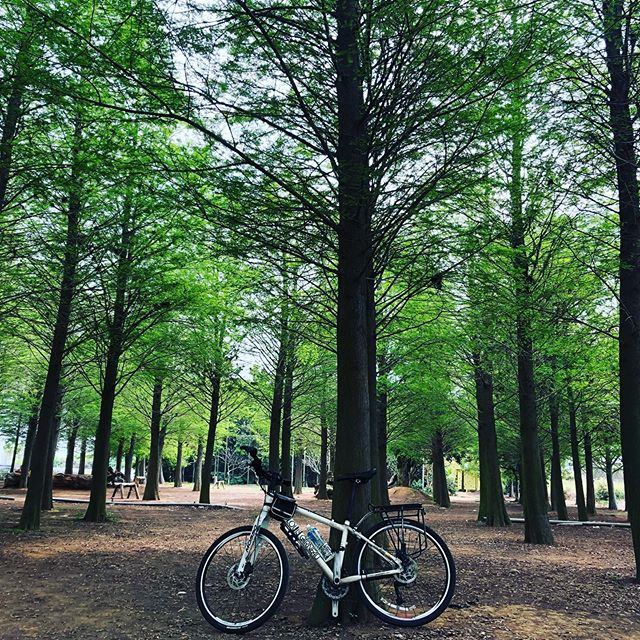bicicle: (202, 455, 464, 635)
vegetation: (1, 1, 620, 535)
